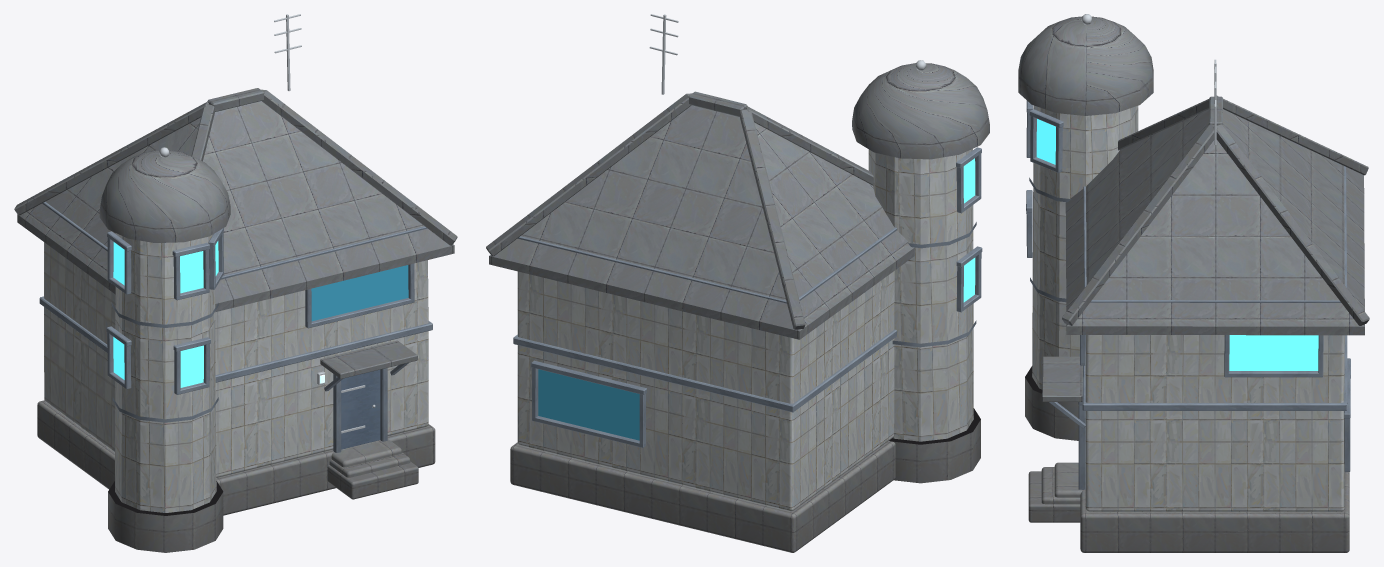
Rendered from future_house.gltf.
3 views of the same model, side by side, from view 1: azimuth 30°, elevation 25°; view 2: azimuth 150°, elevation 25°; view 3: azimuth 270°, elevation 25° (orthographic). The views are drawn at different scales.
Parts seen in each view (by area): view 1: future_house_wall_LOD0, future_house_roof_LOD0, future_house_base_LOD0, future_house_trim_LOD0, future_house_glass_LOD0, future_house_glow_4AB8E0_LOD0, future_house_door_LOD0, future_house_metal_LOD0; view 2: future_house_wall_LOD0, future_house_roof_LOD0, future_house_base_LOD0, future_house_trim_LOD0, future_house_glass_LOD0, future_house_glow_4AB8E0_LOD0; view 3: future_house_roof_LOD0, future_house_wall_LOD0, future_house_base_LOD0, future_house_trim_LOD0, future_house_glow_4AB8E0_LOD0.
Part boxes in pixels (<box>): future_house_wall_LOD0: <box>44,233,428,512</box>; future_house_roof_LOD0: <box>14,88,457,378</box>; future_house_base_LOD0: <box>37,400,435,552</box>; future_house_trim_LOD0: <box>39,201,432,452</box>; future_house_glass_LOD0: <box>311,265,408,321</box>; future_house_glow_4AB8E0_LOD0: <box>113,241,218,387</box>; future_house_door_LOD0: <box>341,369,380,449</box>; future_house_metal_LOD0: <box>159,14,375,433</box>; future_house_wall_LOD0: <box>517,149,973,511</box>; future_house_roof_LOD0: <box>486,63,989,339</box>; future_house_base_LOD0: <box>510,408,980,552</box>; future_house_trim_LOD0: <box>513,147,982,447</box>; future_house_glass_LOD0: <box>538,369,639,440</box>; future_house_glow_4AB8E0_LOD0: <box>963,158,975,302</box>; future_house_roof_LOD0: <box>1018,16,1369,401</box>; future_house_wall_LOD0: <box>1032,105,1344,511</box>; future_house_base_LOD0: <box>1025,366,1349,552</box>; future_house_trim_LOD0: <box>1026,100,1350,489</box>; future_house_glow_4AB8E0_LOD0: <box>1036,119,1318,370</box>.
Size of what is drawn, in the model's own units: 10.28 by 12.2 by 8.69.
Materials: 9 (5 with a texture image).
